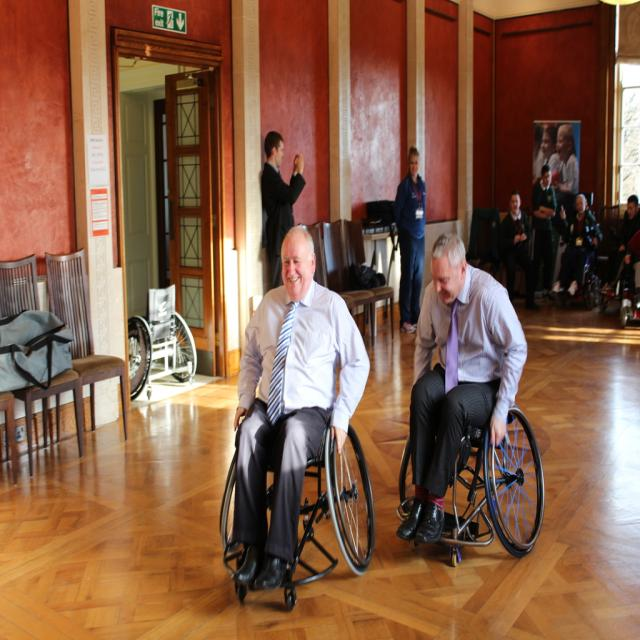wheelchairs: (225, 225, 380, 591), (402, 229, 544, 568), (126, 281, 197, 396)
